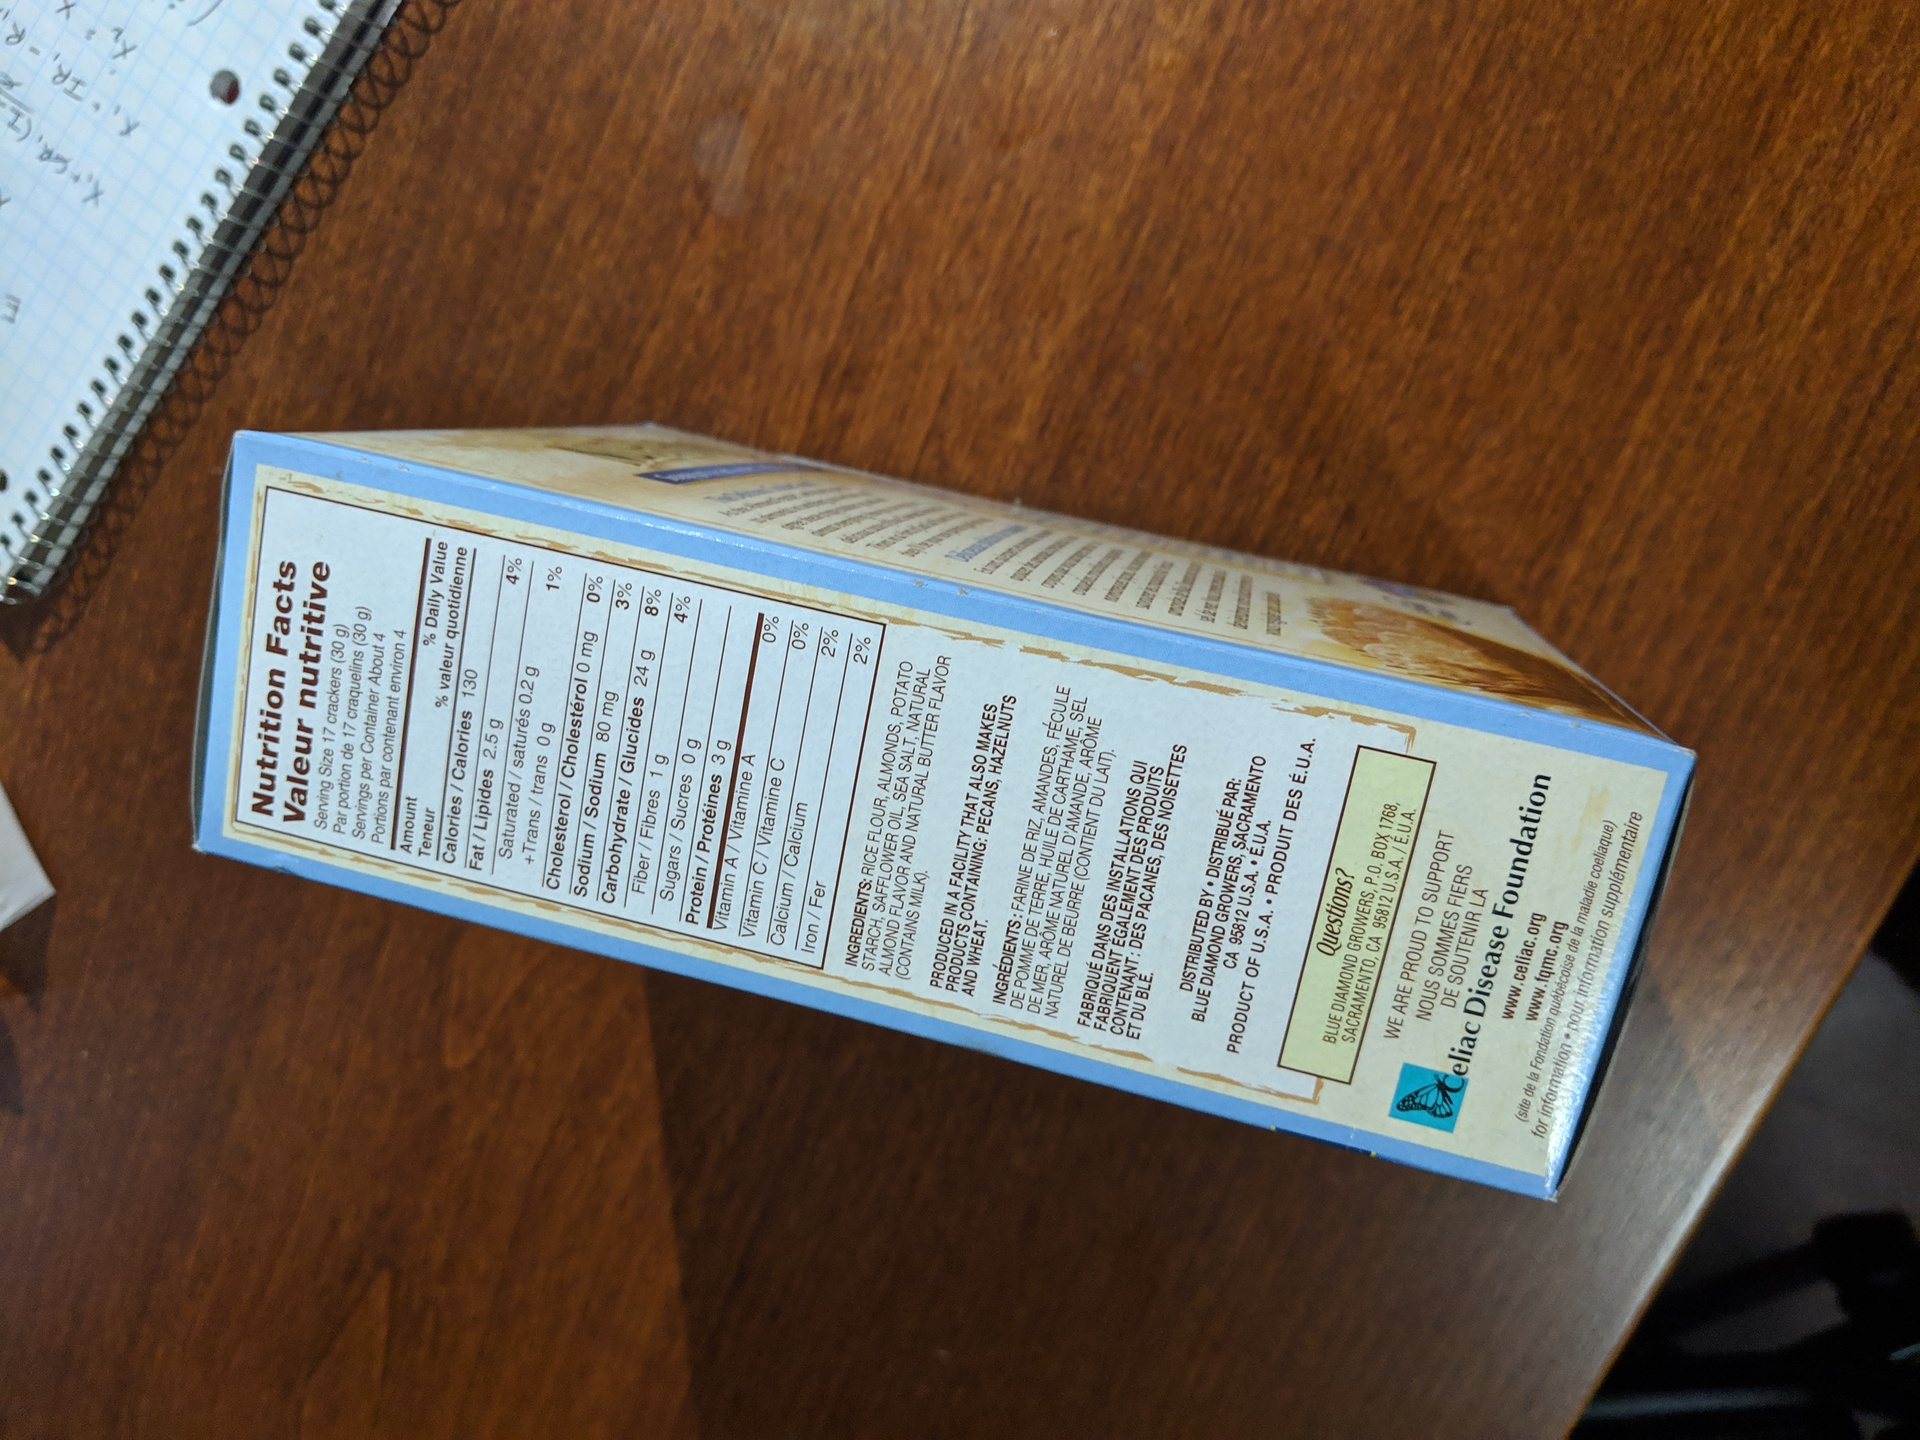blue_diamond_nut_thins_almond_seasalt: (231, 492, 1630, 1094)
